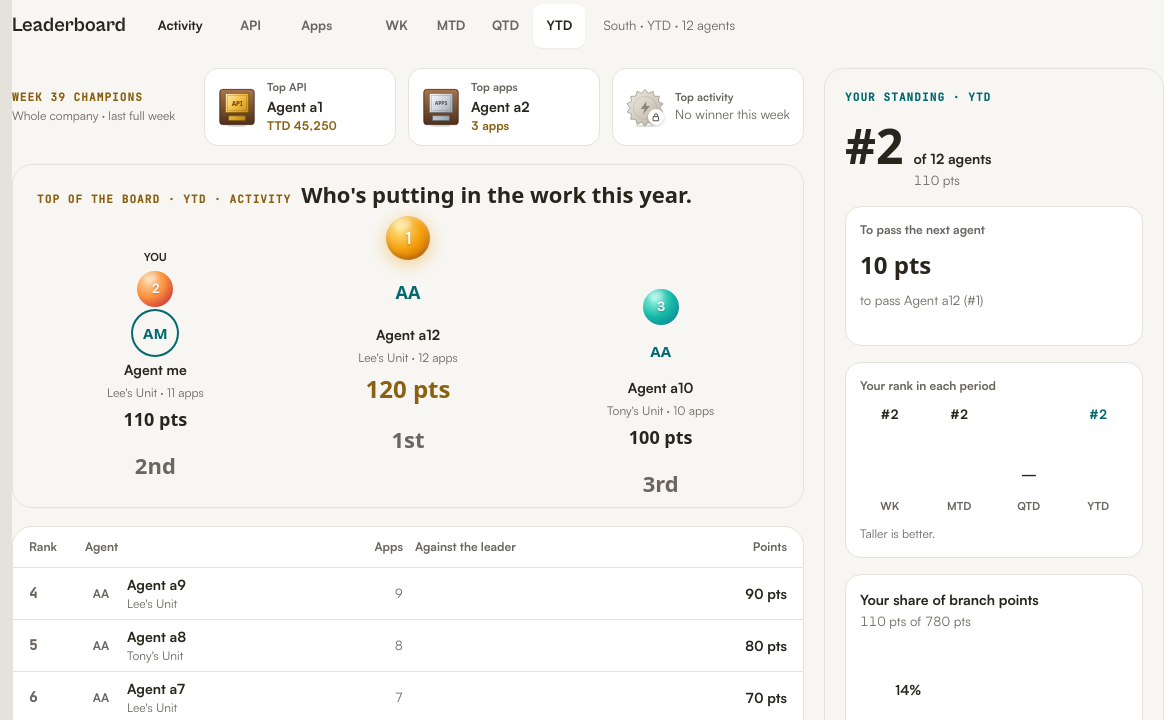
FR Leaderboard — three boards (L-2) › each board ranks, words and formats its own metric
Click the radio button with test id "fr-leaderboard-board-api".
click(251, 26)  # box [219,4,283,48]
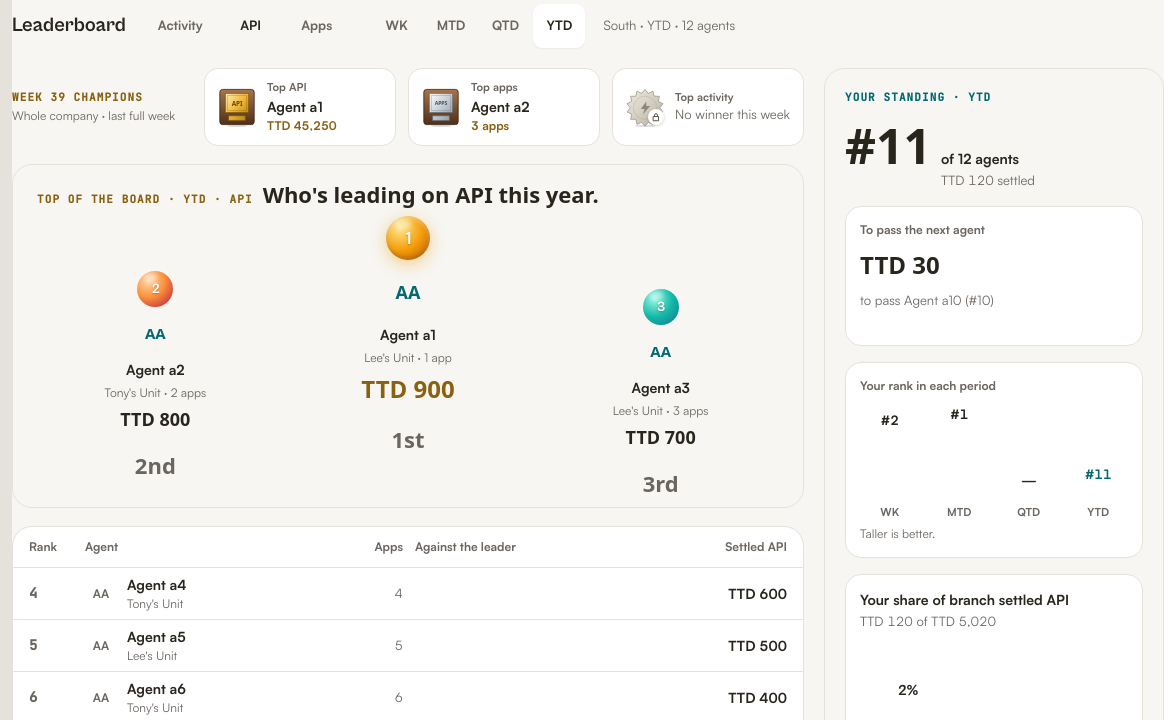
Expected: the element with test id "fr-podium-rank-1" shows "Agent a1", [380,326,436,343]
Expected: the element with test id "fr-leaderboard-podium" shows "Who's leading on API this year.", [263,178,599,208]
Expected: the element with test id "fr-podium-rank-1" shows "TTD 900", [361,372,455,405]
Click the radio button with test id "fr-leaderboard-board-apps".
click(317, 26)  # box [285,4,349,48]
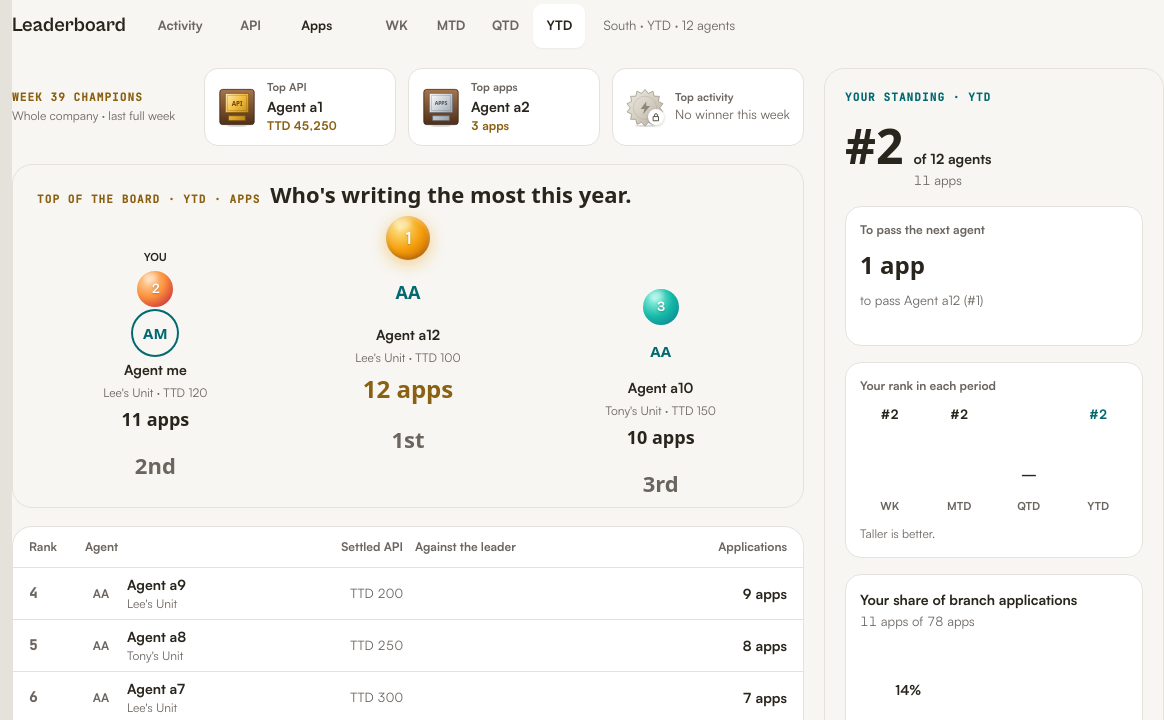
Expected: the element with test id "fr-leaderboard-podium" shows "Who's writing the most this year.", [270,178,632,208]
Expected: the element with test id "fr-podium-rank-1" shows "12 apps", [363,372,453,405]
Expected: the element with test id "fr-leaderboard-rows" shows "Applications", [718,539,787,554]
